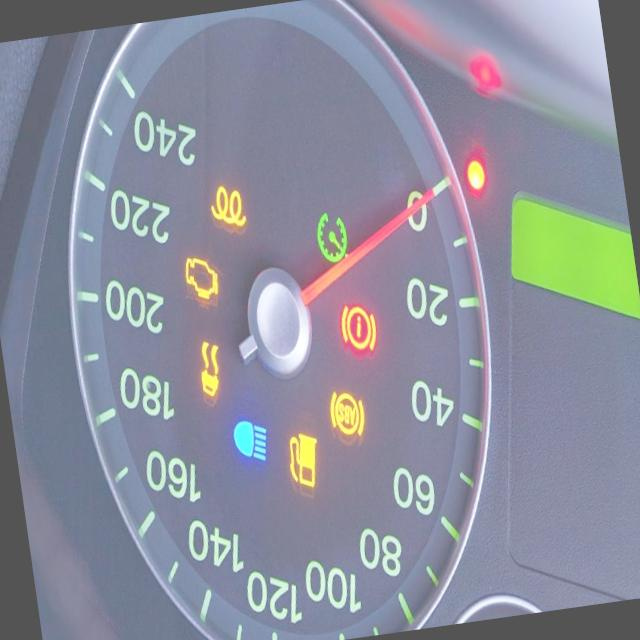kontrolka: (280, 417, 330, 500), (322, 377, 374, 454), (200, 170, 251, 240), (332, 292, 382, 363), (226, 408, 276, 476), (177, 244, 225, 311), (191, 331, 231, 409)
